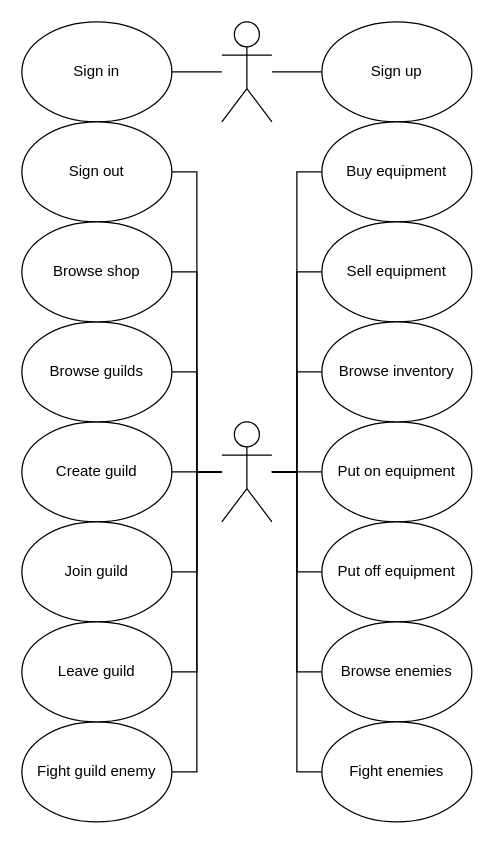
Image size: 494x844. Some labels were removed from this diagram. Here are the shapes that lost their labels. From the top down, the box of each, then its label:
(221, 21, 272, 122): Guest
(221, 421, 272, 522): User
